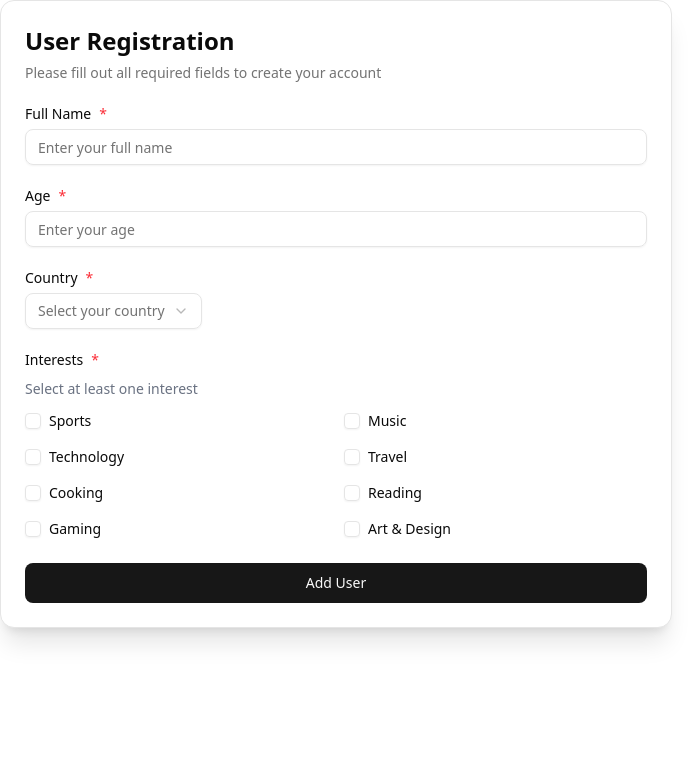
Test case: UserForm › Validation › shows error when full name is empty on submit
Click the button "Add User" at (336, 583), box x1=25 y1=563 x2=647 y2=603
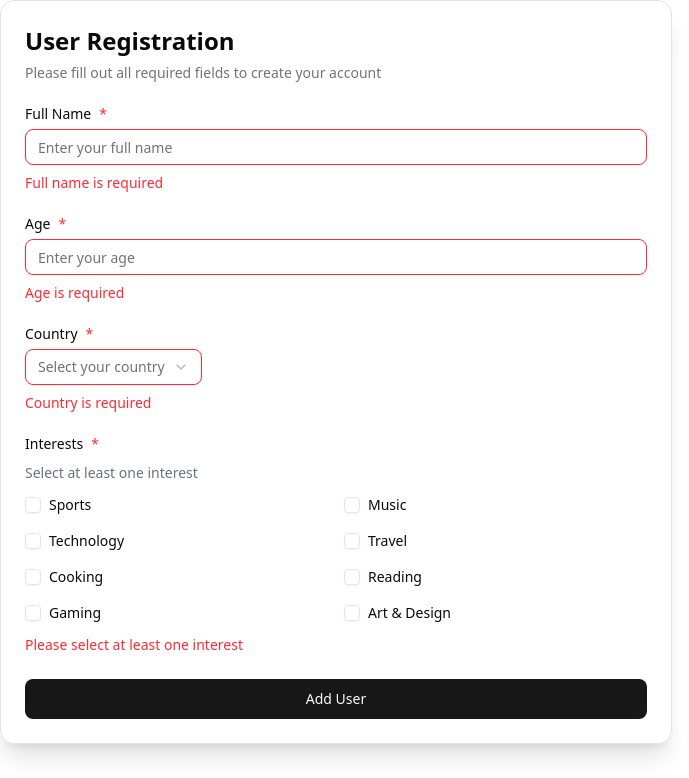
Expected: the text "Full name is required" is shown, x1=25 y1=173 x2=163 y2=192
